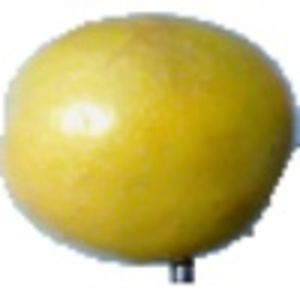maracujá: (1, 12, 300, 285)
